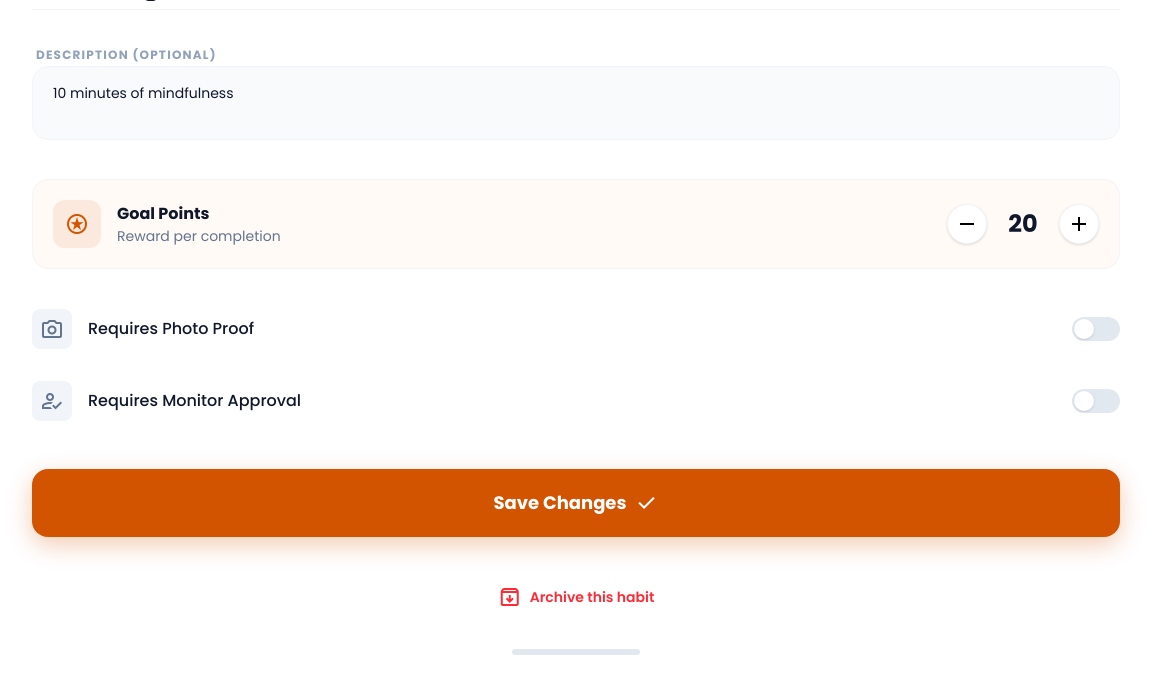
Scenario: EditHabit › shows archive confirmation
(page scrolled)
Click the button "Archive this habit". click: point(576, 597)
box: [32,569,1120,625]
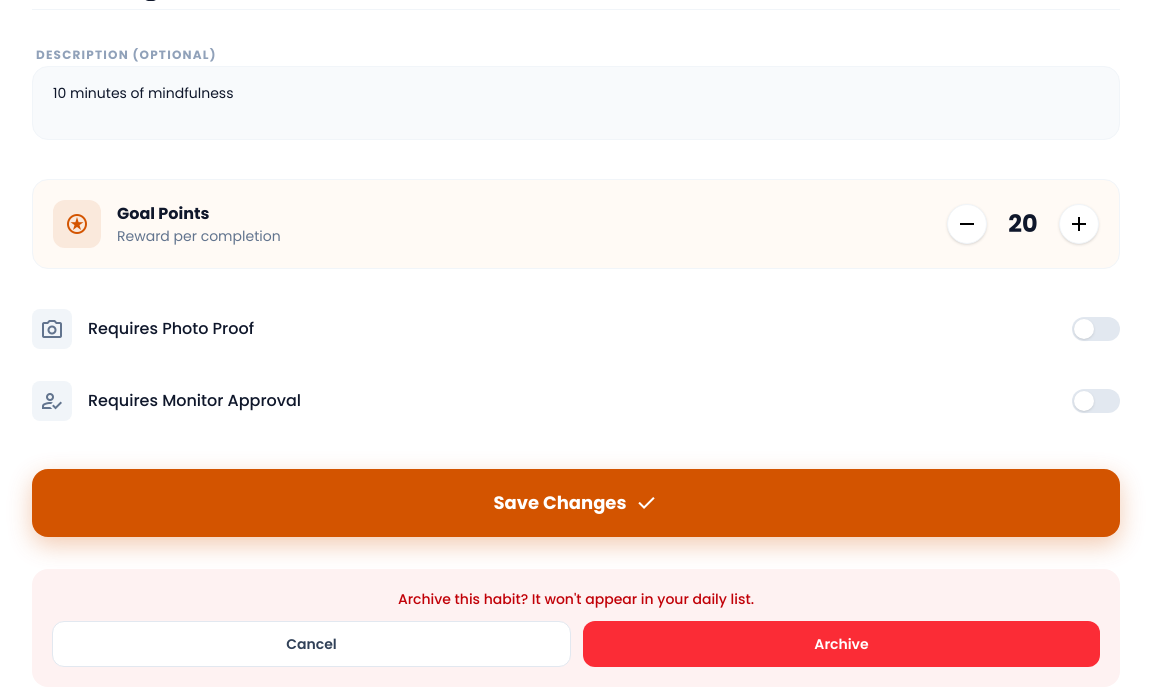
Expected: the text "Archive this habit? It won't appear in your daily list." is shown, [398,589,754,609]
